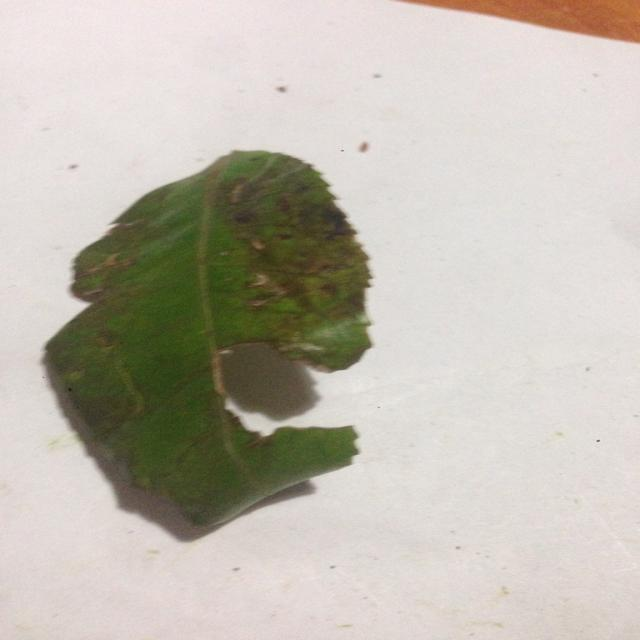Red Leaf Spot: (48, 134, 386, 538)
